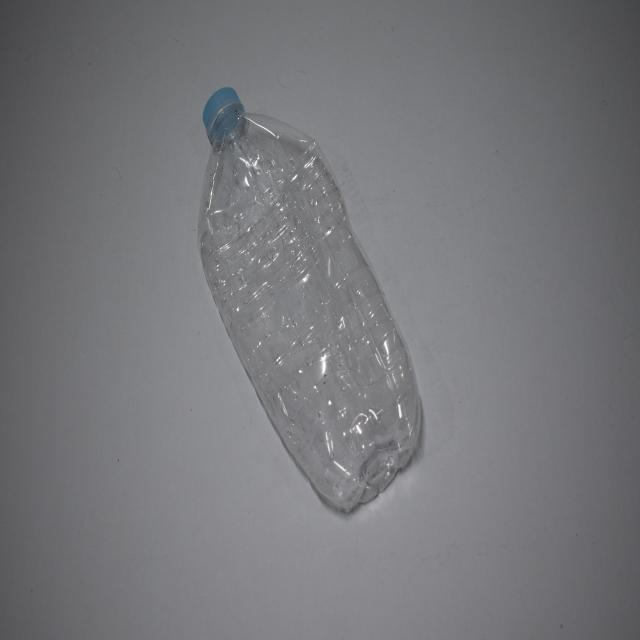empty: (198, 89, 420, 511)
